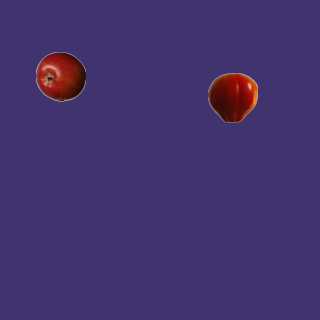Apple Braeburn: (35, 51, 85, 101)
Tomato 1: (207, 72, 257, 122)
